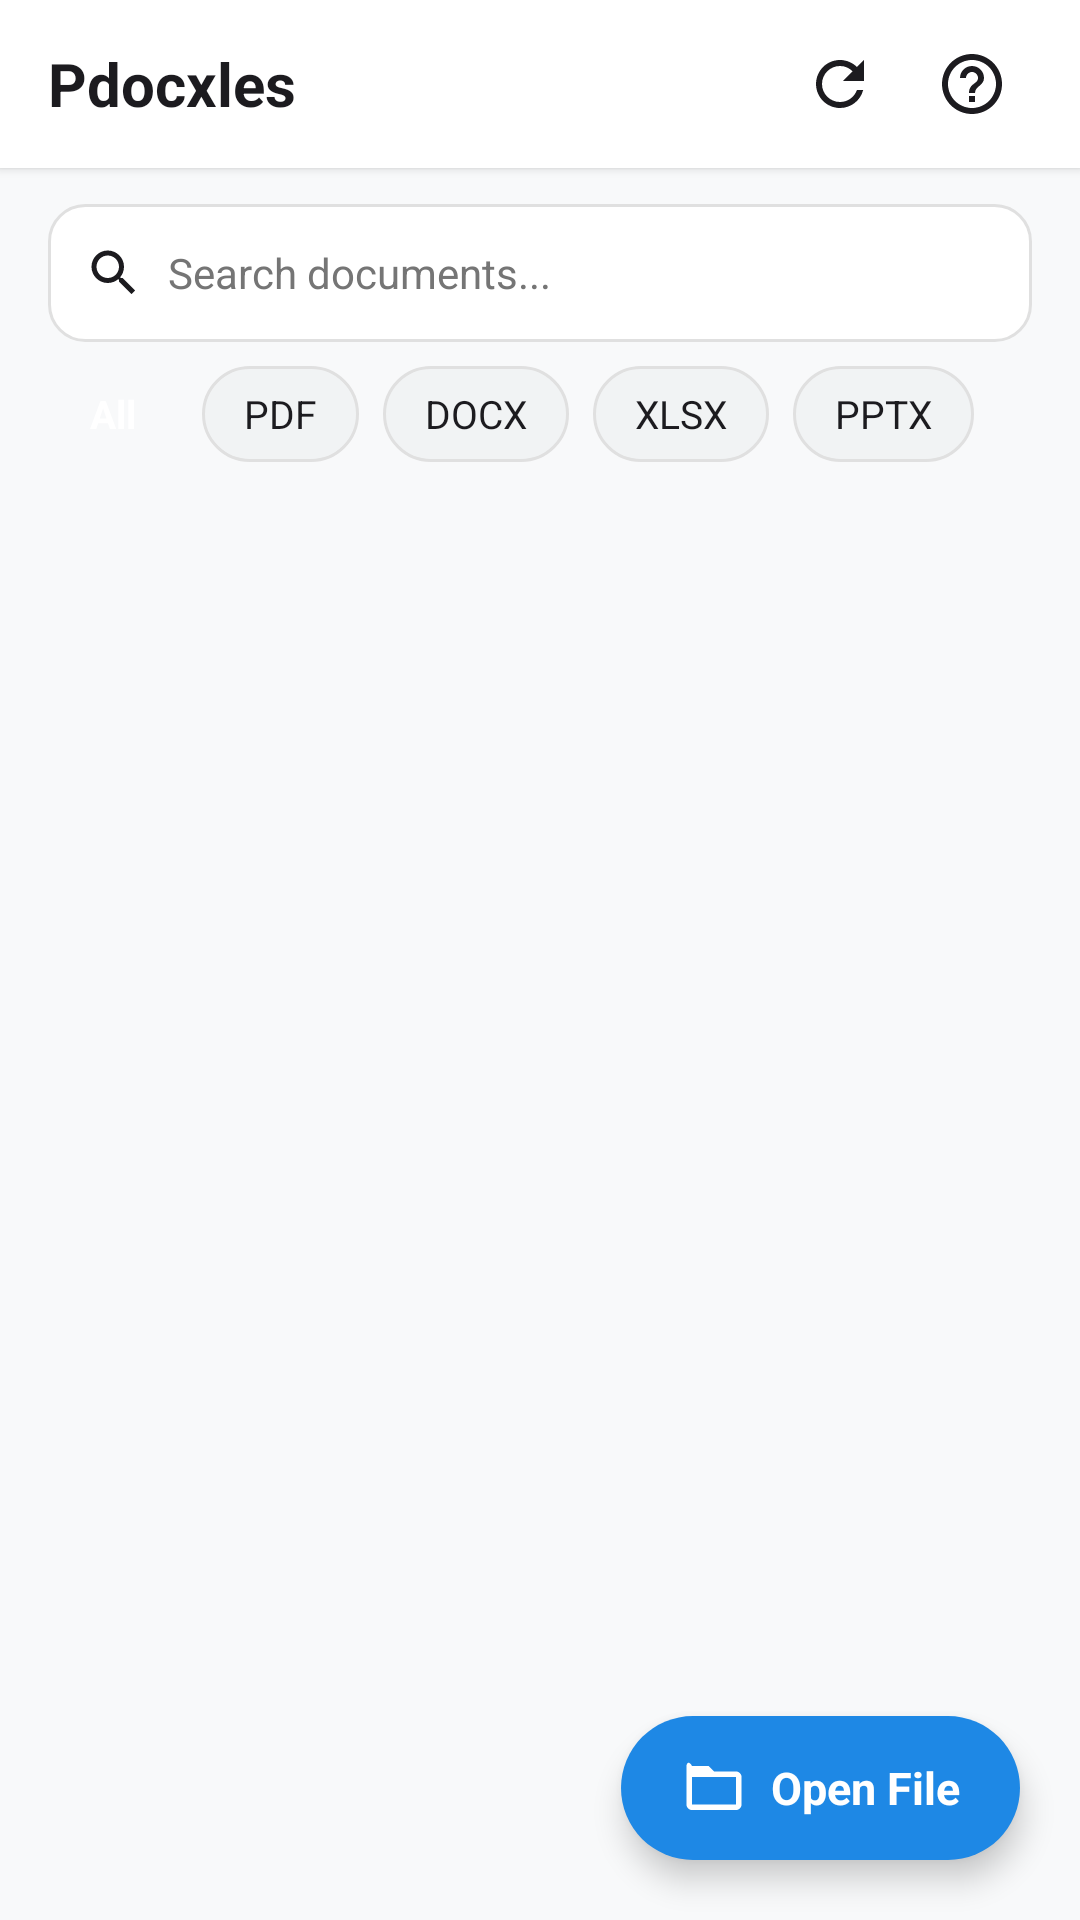

Icon click points for this 1080px x 1920px phone screenshot, format (x,y):
Help: (972,84)
Refresh: (840,84)
